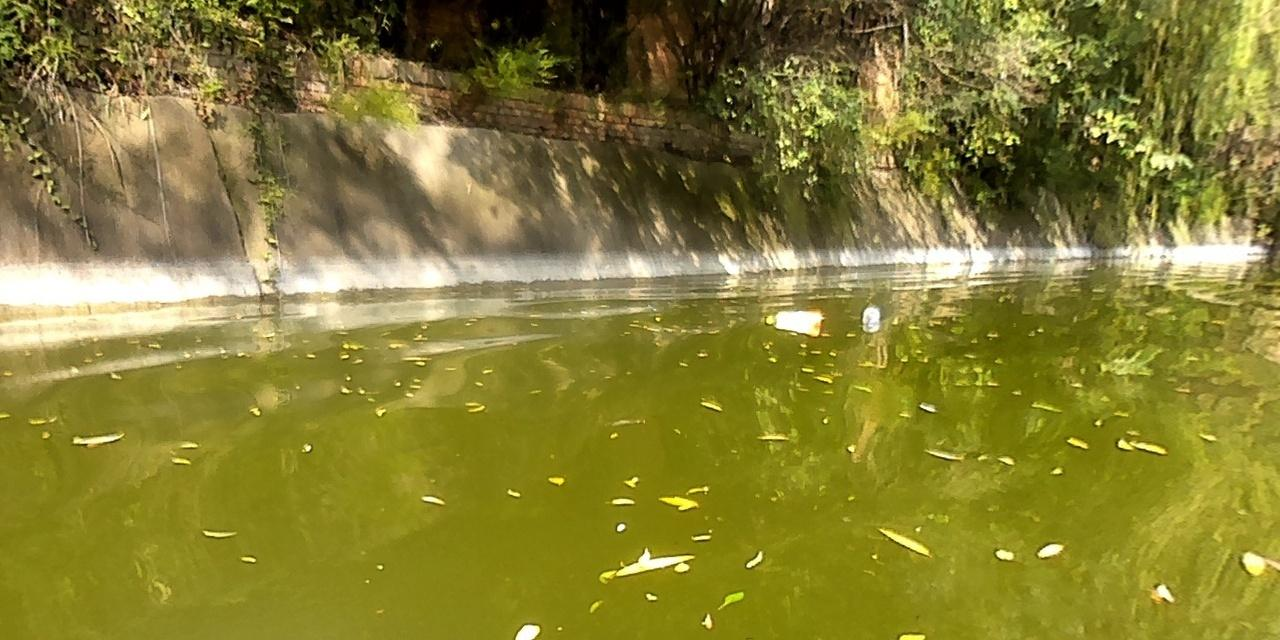bottle: (765, 309, 821, 334), (860, 306, 881, 323)
